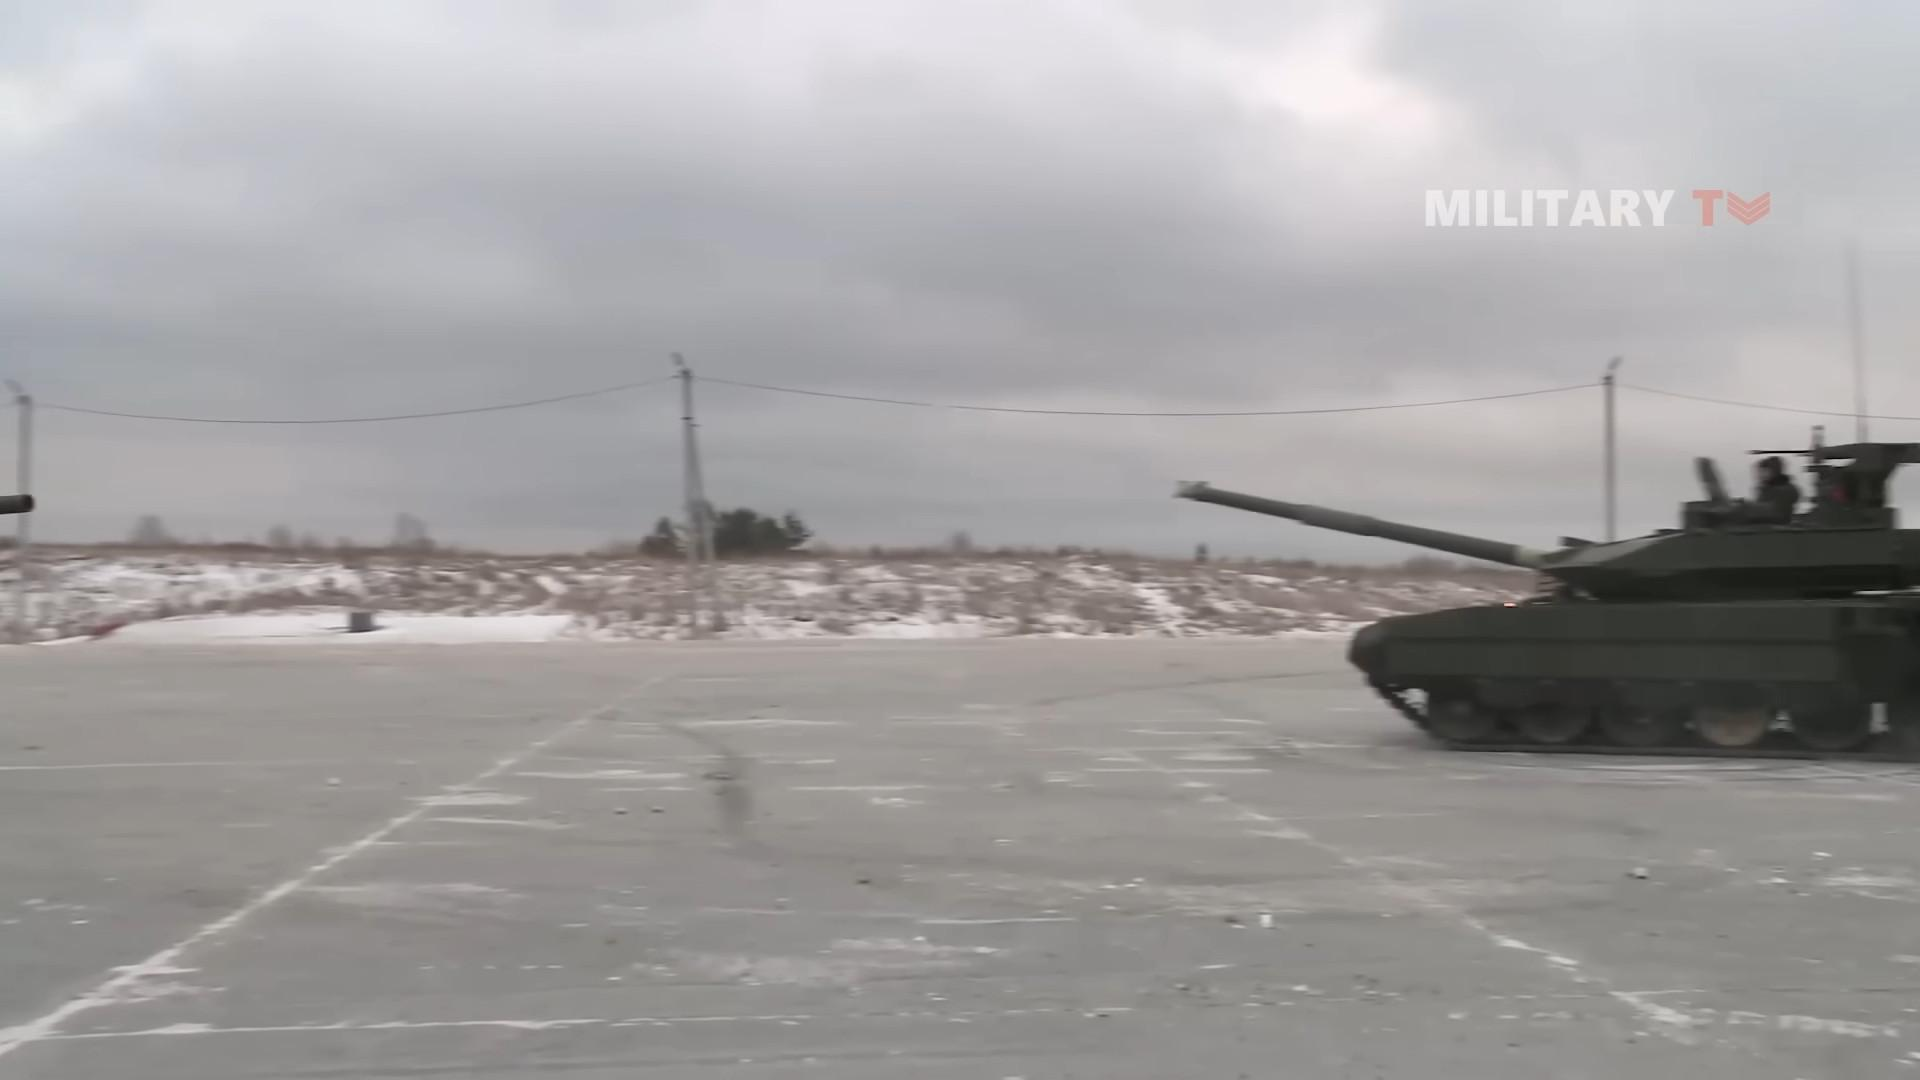tank: (1179, 443, 1919, 761)
